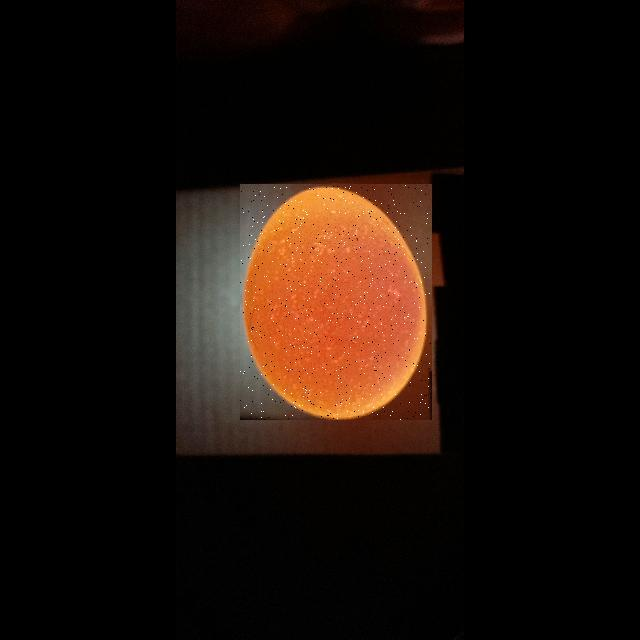Fertile: (240, 184, 432, 420)
